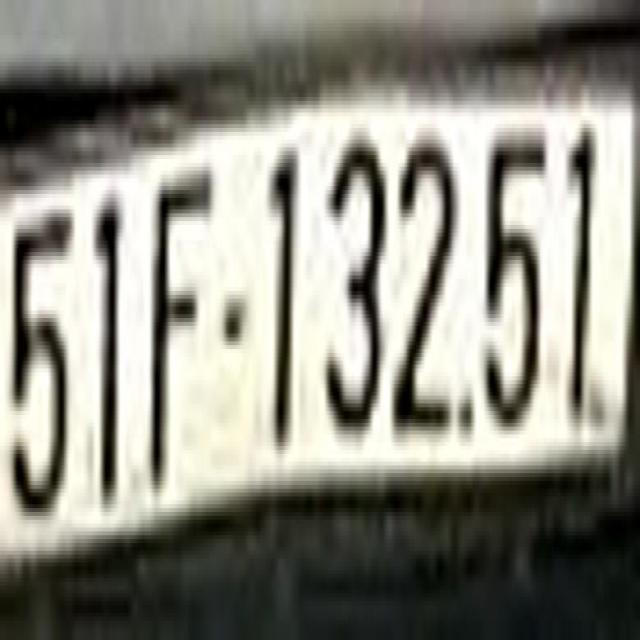1: (556, 81, 608, 438), (261, 112, 312, 462), (84, 178, 136, 520)
2: (390, 89, 456, 458)
3: (321, 101, 384, 458)
5: (482, 89, 546, 446), (9, 182, 75, 516)
F: (145, 152, 214, 496)
